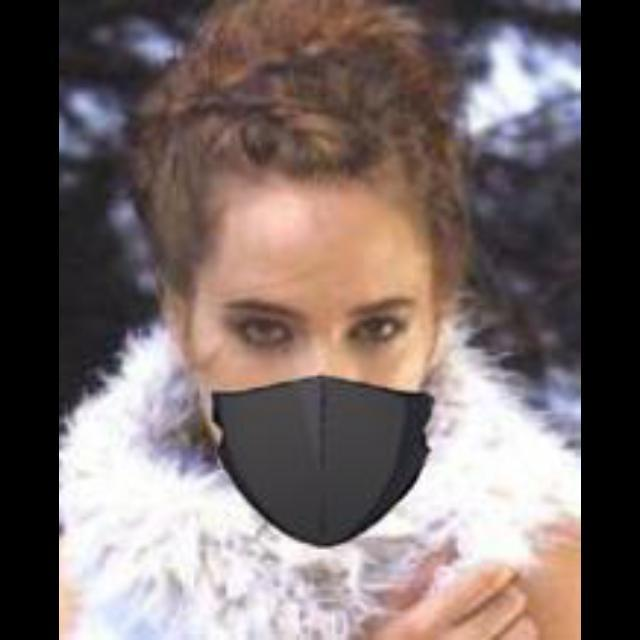suspicion: (186, 76, 454, 530)
